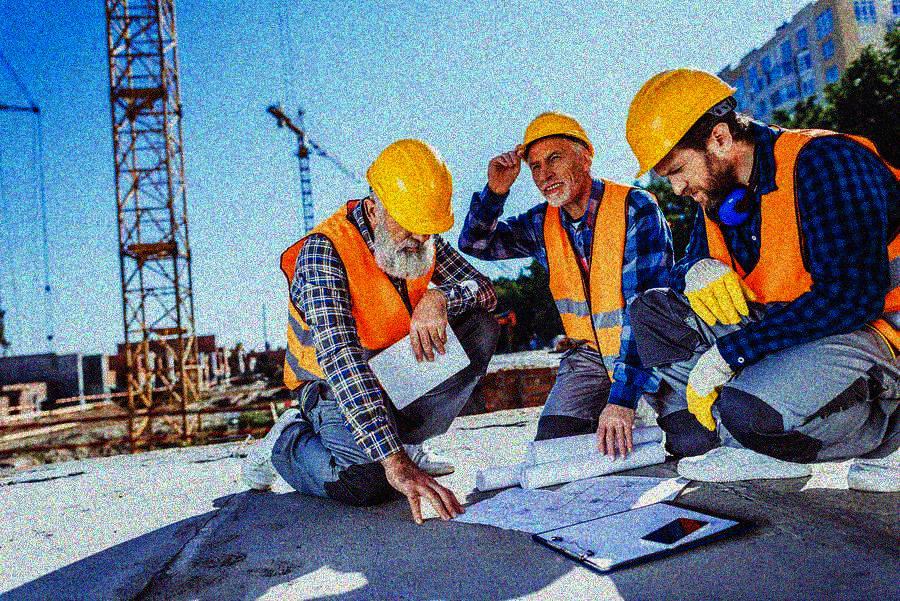helmet: (622, 65, 745, 210), (361, 139, 460, 259), (520, 110, 597, 208)
